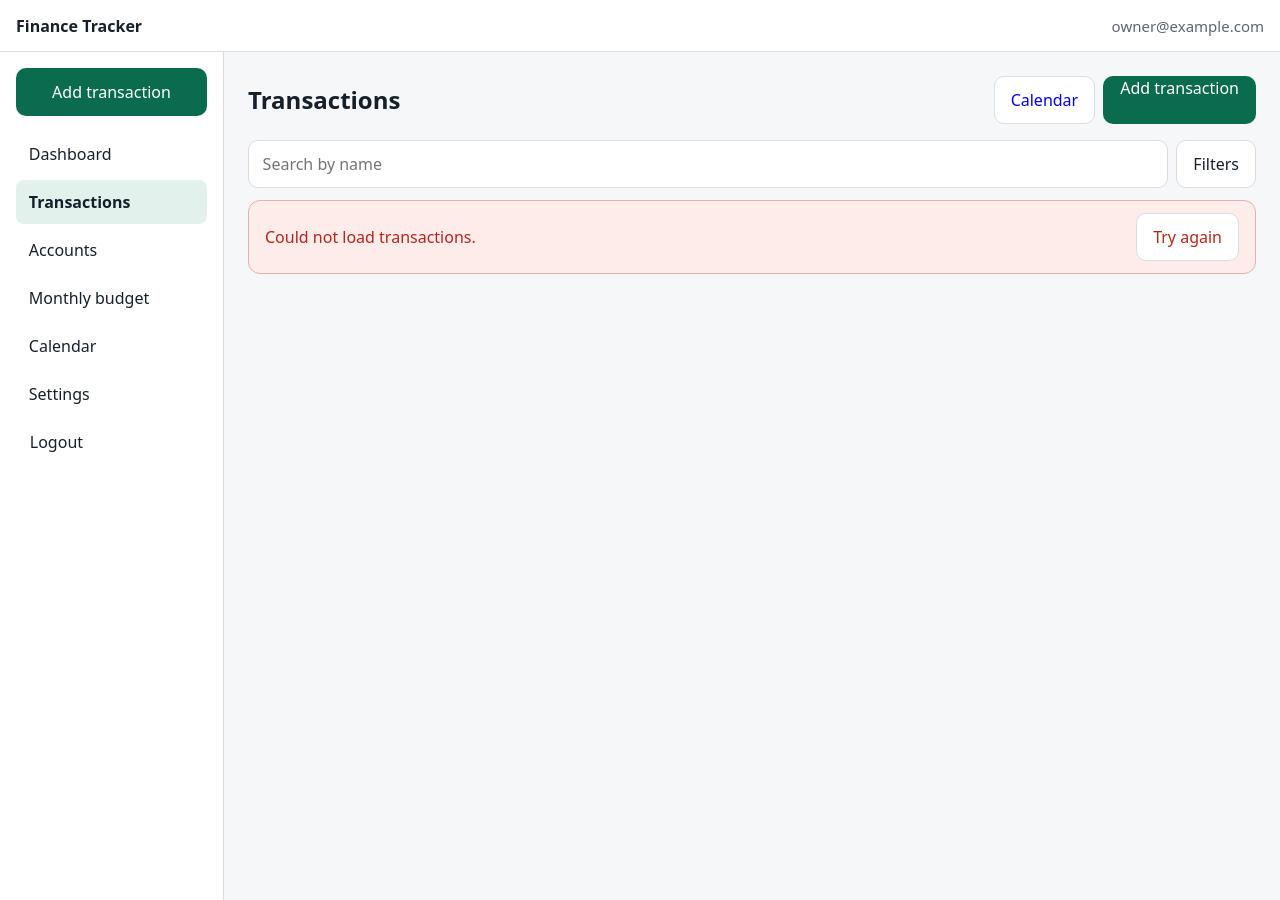
Test: history list › shows an error banner and recovers on retry
expect the message shows "Could not load transactions.": met, box [265, 226, 476, 248]
Click the button "Try again".
click(1188, 237)  # box [1136, 213, 1239, 261]
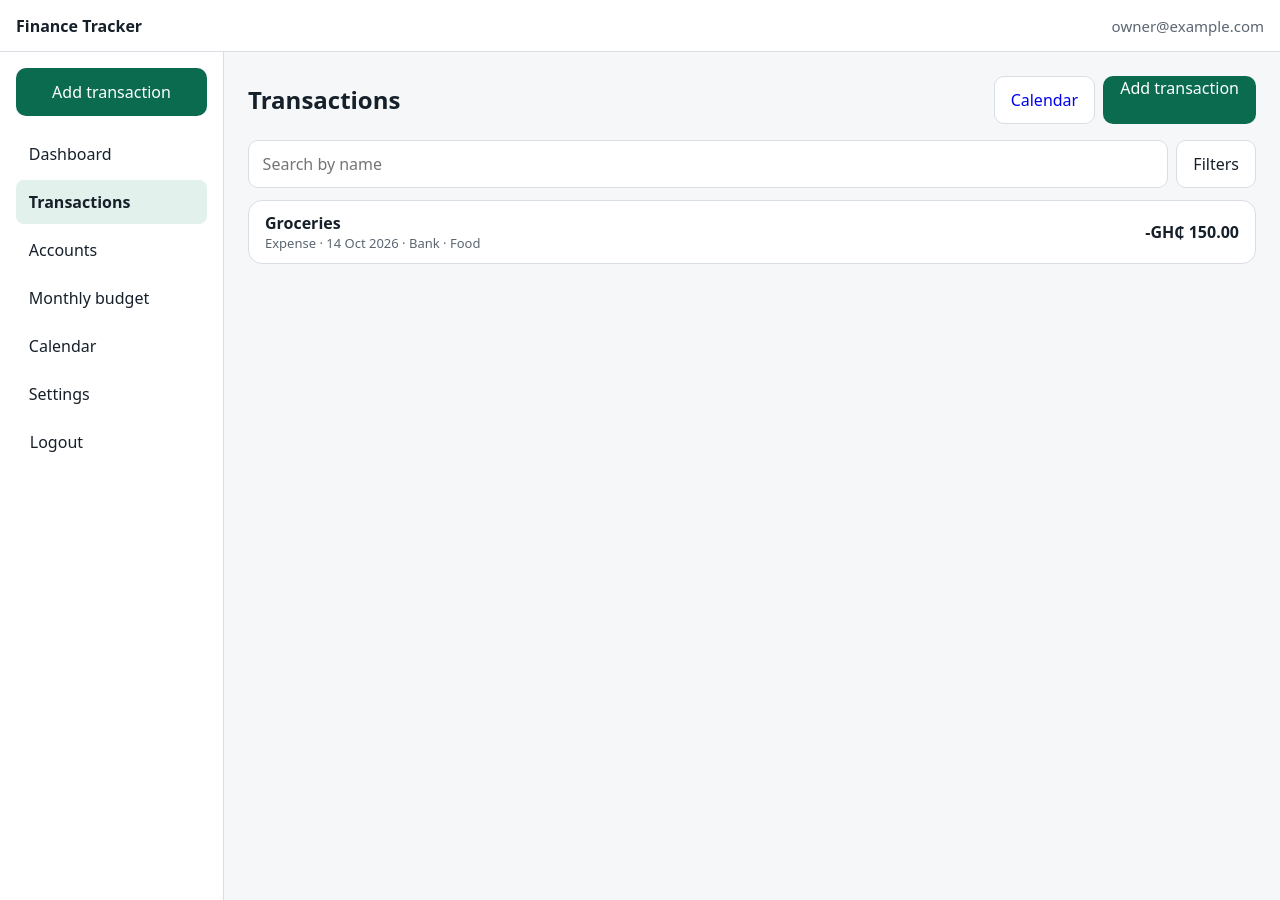
expect the link "Groceries Expense · 14 Oct 2026 · Bank · Food -GH₵ 150.00" is shown: met, box [248, 200, 1256, 264]
